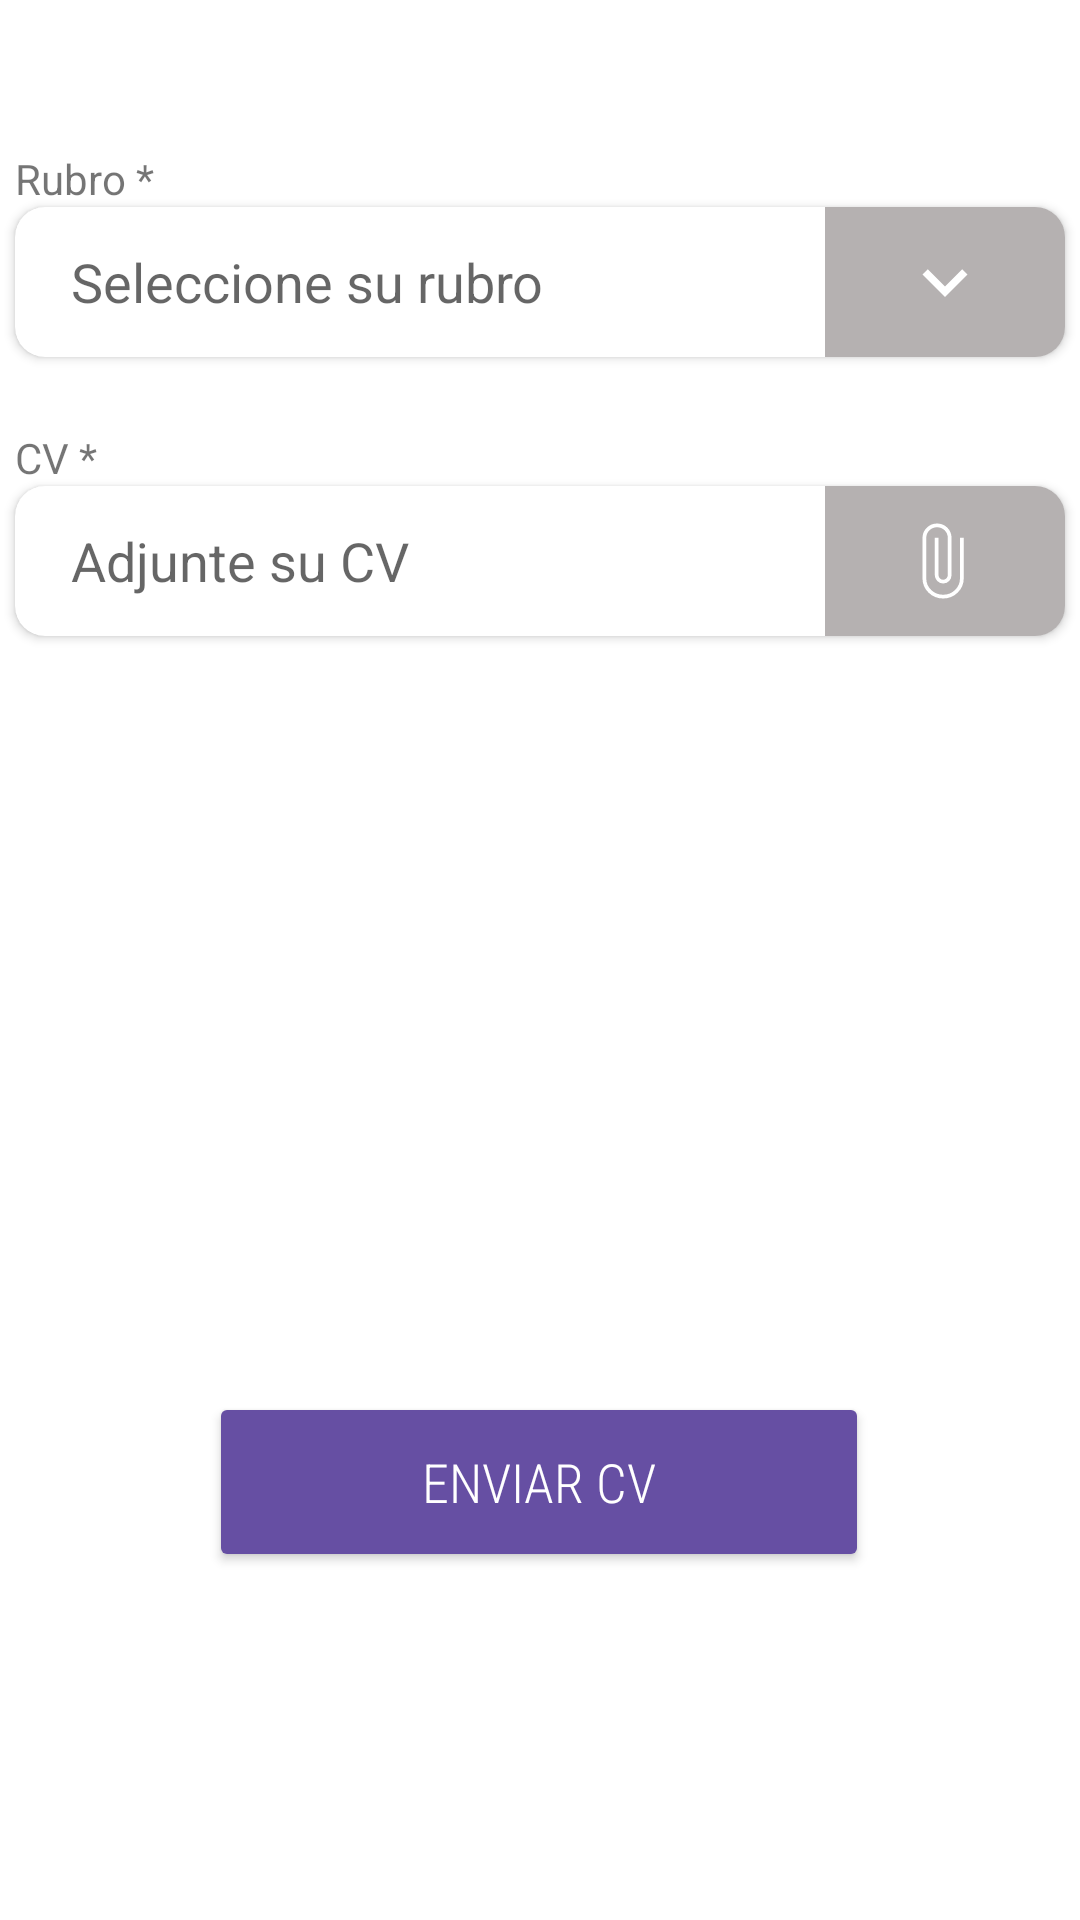

Point at icon controls on the screen. Image size 1080*1920, points as point (x, y).
attach file: point (945, 561)
keyboard arrow down: point (945, 282)
